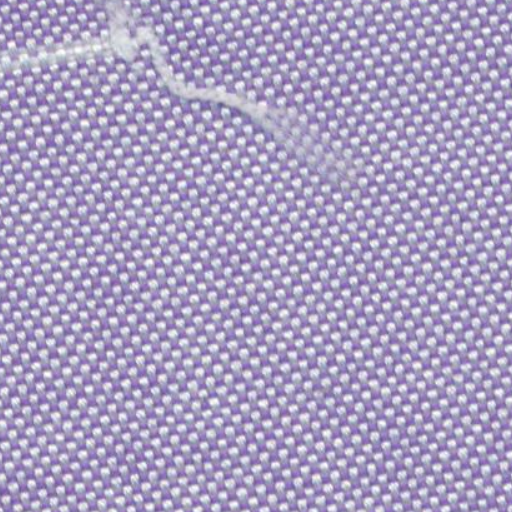DuanSha: (88, 10, 364, 178)
